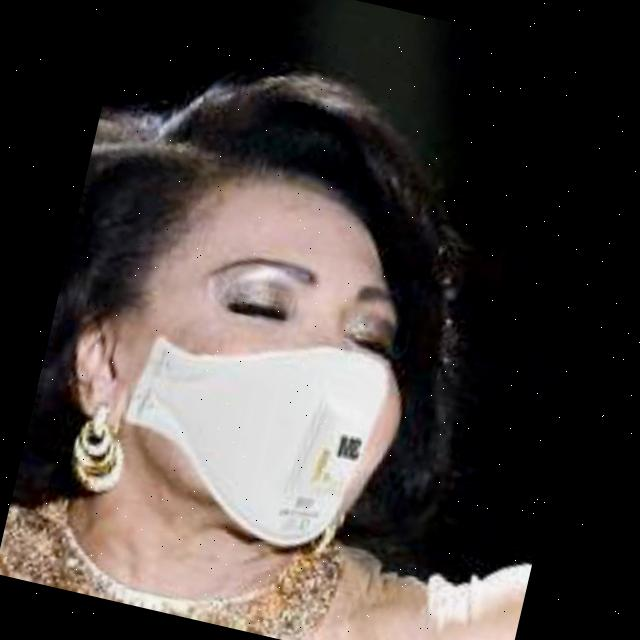suspicion: (78, 70, 474, 566)
